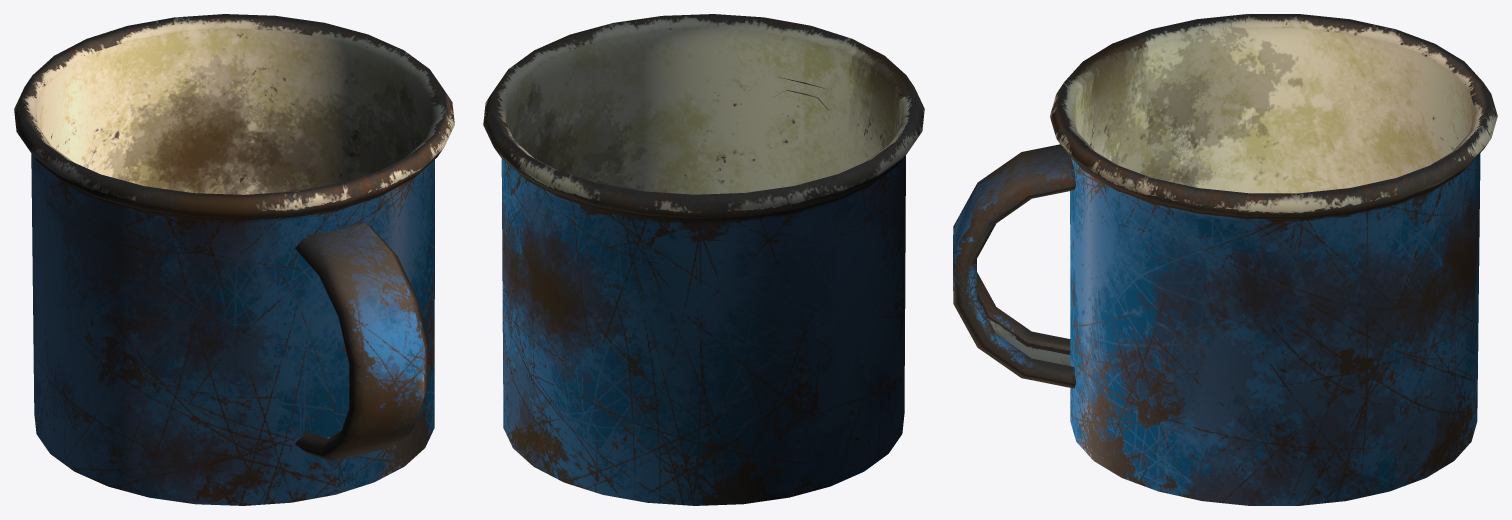
Rendered from old_metal_cup.glb.
3 renders of one model, left to right at view 1: azimuth 30°, elevation 25°; view 2: azimuth 150°, elevation 25°; view 3: azimuth 270°, elevation 25°, orthographic.
Visible parts, largest first — view 1: cup_lowpoly_game; view 2: cup_lowpoly_game; view 3: cup_lowpoly_game.
Boxes of the visible parts, x1,y1,x2,y2 form: cup_lowpoly_game: (14,14,454,505); cup_lowpoly_game: (483,14,924,505); cup_lowpoly_game: (953,14,1497,505).
Bounding box in the file's own units: 23.92 × 19.37 × 29.59.
Materials: 1 (1 with a texture image).
